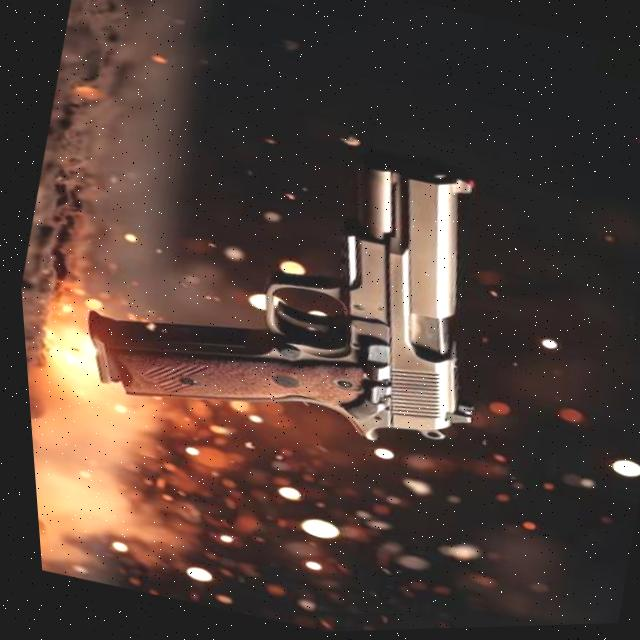gun: (83, 163, 472, 439)
